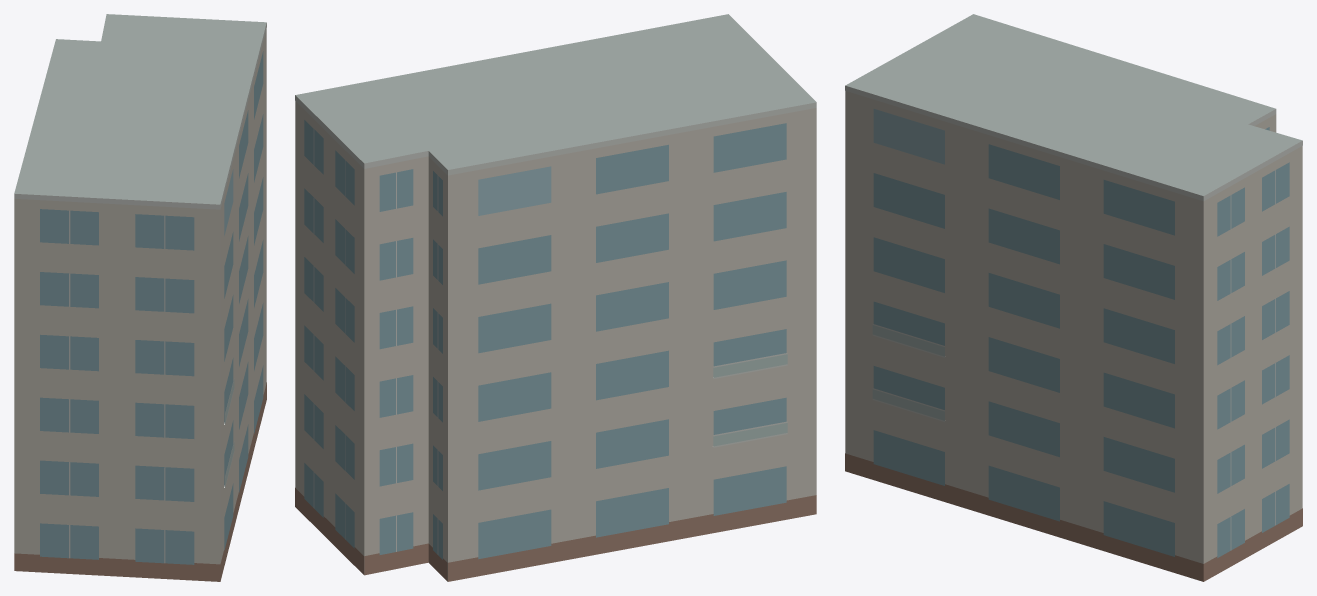
Rendered from survey-upis-32977560.glb.
3 renders of one model, left to right at view 1: azimuth 30°, elevation 25°; view 2: azimuth 150°, elevation 25°; view 3: azimuth 270°, elevation 25°, orthographic. The views are drawn at different scales.
Visible parts, largest first — view 1: survey-upis-32977560.tmp; view 2: survey-upis-32977560.tmp; view 3: survey-upis-32977560.tmp.
Part boxes in pixels (x1=…): survey-upis-32977560.tmp: x1=14, y1=14, x2=266, y2=581; survey-upis-32977560.tmp: x1=295, y1=14, x2=816, y2=581; survey-upis-32977560.tmp: x1=845, y1=14, x2=1302, y2=581.
Size of the model in its own units: 18.55 by 18.3 by 19.69.
